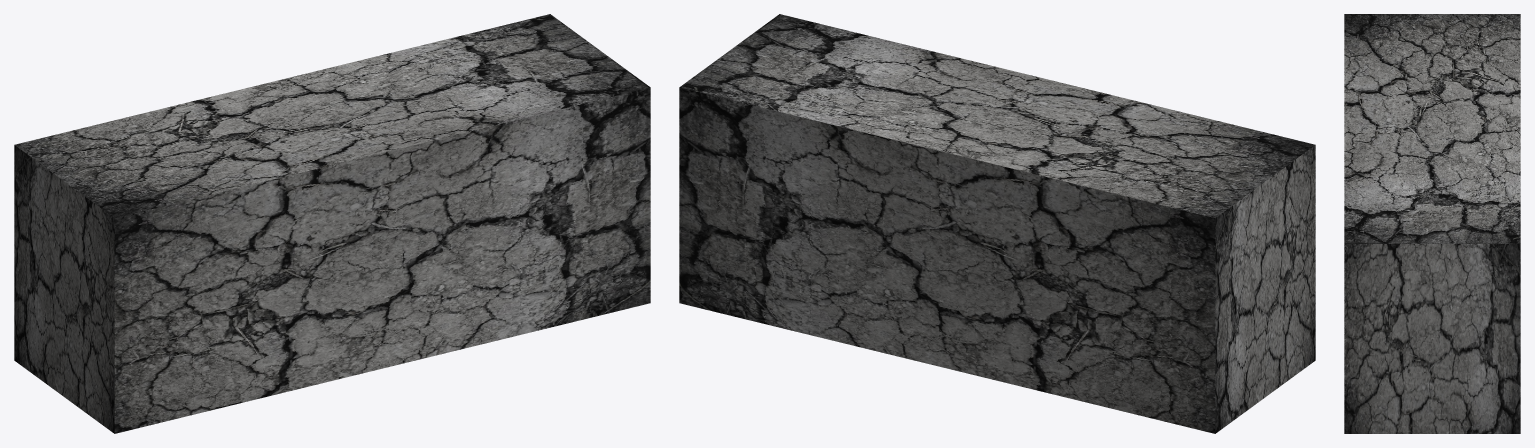
File: DAT.fbx
3 views of the same model, side by side, from view 1: azimuth 30°, elevation 25°; view 2: azimuth 150°, elevation 25°; view 3: azimuth 270°, elevation 25° (orthographic). The views are drawn at different scales.
Parts seen in each view (by area): view 1: pCube1; view 2: pCube1; view 3: pCube1.
Boxes of the visible parts, x1,y1,x2,y2 form: pCube1: [14, 14, 650, 433]; pCube1: [679, 14, 1315, 433]; pCube1: [1344, 14, 1520, 433].
Bounding box in the file's own units: 159 × 61.12 × 51.52.
1 material, 1 textured.
